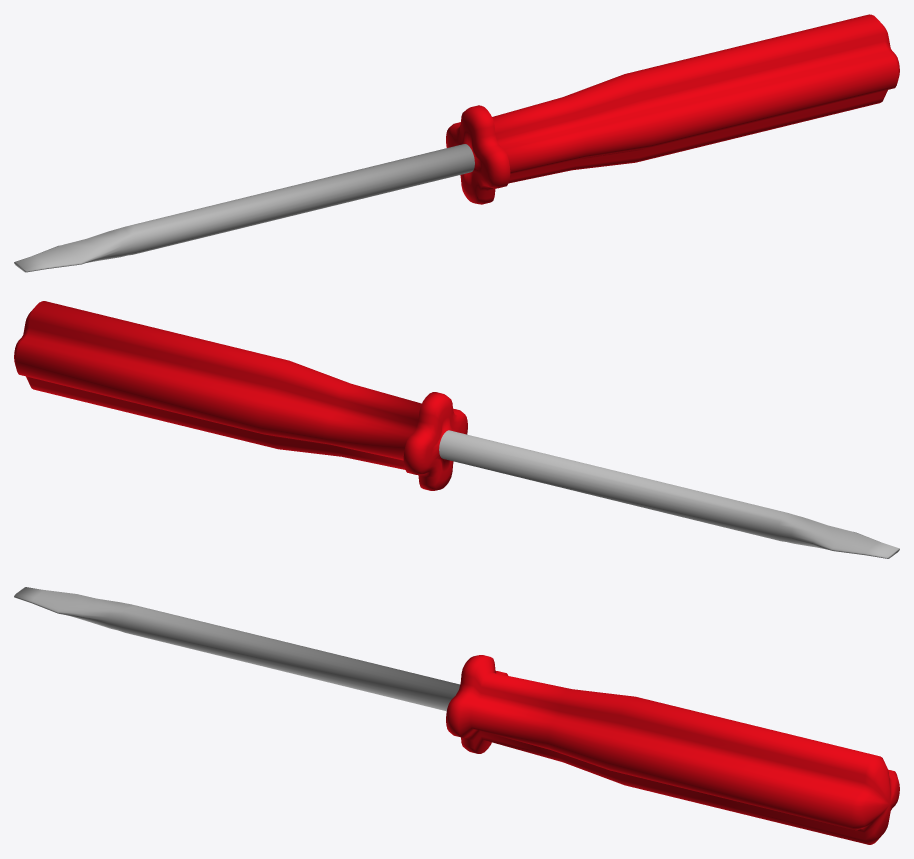
Rendered from screwdriver.fbx.
3 renders of one model, top to bottom at view 1: azimuth 30°, elevation 25°; view 2: azimuth 150°, elevation 25°; view 3: azimuth 330°, elevation 25°, orthographic.
Visible parts, largest first — view 1: mainasudoraiba; view 2: mainasudoraiba; view 3: mainasudoraiba.
Boxes of the visible parts, x1,y1,x2,y2 form: mainasudoraiba: [14, 14, 899, 272]; mainasudoraiba: [14, 301, 899, 558]; mainasudoraiba: [14, 587, 899, 844].
Size of the model in its own units: 20.81 by 2.14 by 2.14.
